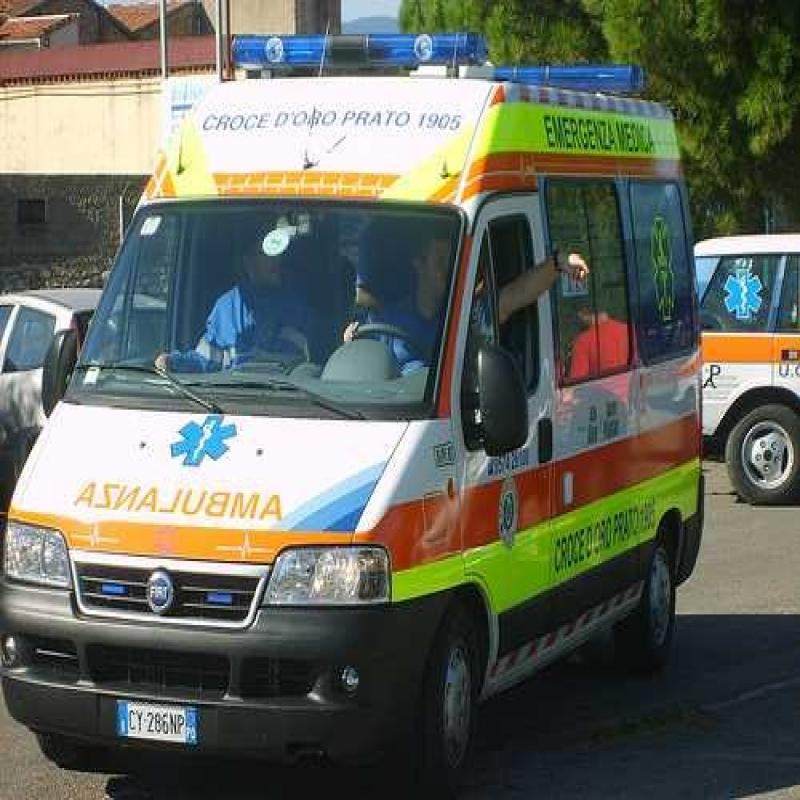AmbulanceSiren: (220, 17, 493, 85)
